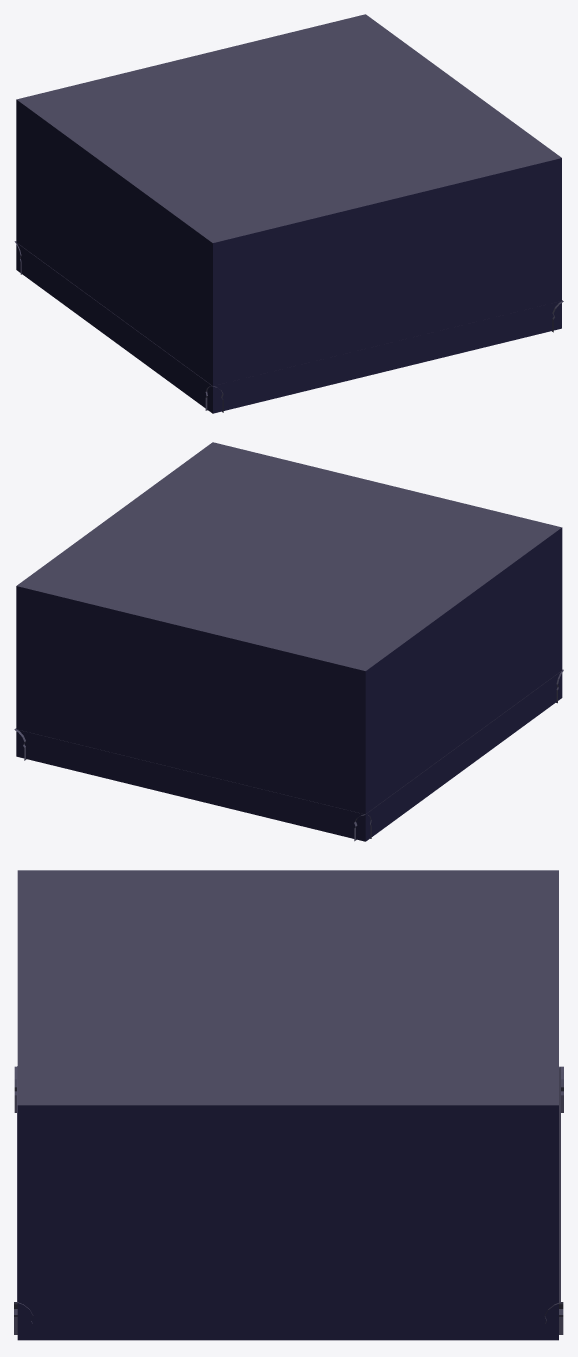
Rendered from Alyx's Room.fbx.
The picture shows the model from 3 angles, top to bottom: view 1: azimuth 30°, elevation 25°; view 2: azimuth 150°, elevation 25°; view 3: azimuth 270°, elevation 25°; orthographic projection. The views are drawn at different scales.
Parts seen in each view (by area): view 1: MainRoom; view 2: MainRoom, Skirting Board; view 3: MainRoom, Skirting Board.
Part boxes in pixels (x1=…): MainRoom: x1=16, y1=14, x2=561, y2=413; MainRoom: x1=16, y1=442, x2=562, y2=841; Skirting Board: x1=14, y1=669, x2=563, y2=841; MainRoom: x1=17, y1=870, x2=558, y2=1340; Skirting Board: x1=14, y1=1066, x2=563, y2=1334.
Size of what is drawn, in the model's own units: 2460 by 1144 by 2414.
